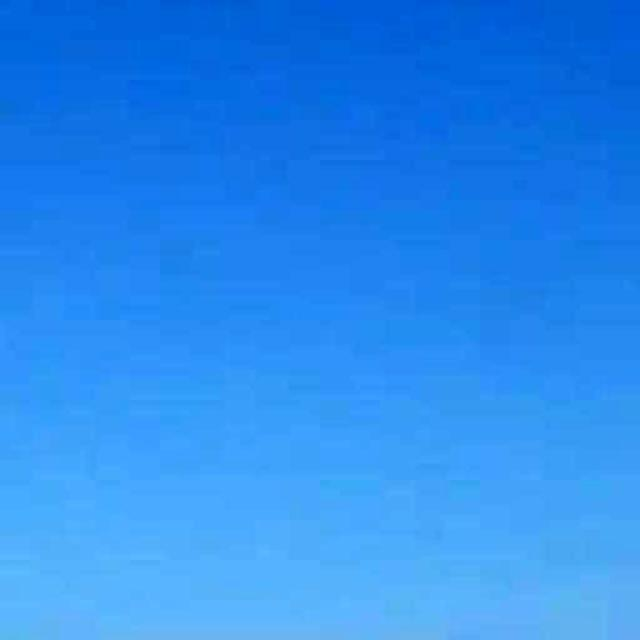drone: (409, 502, 471, 570)
